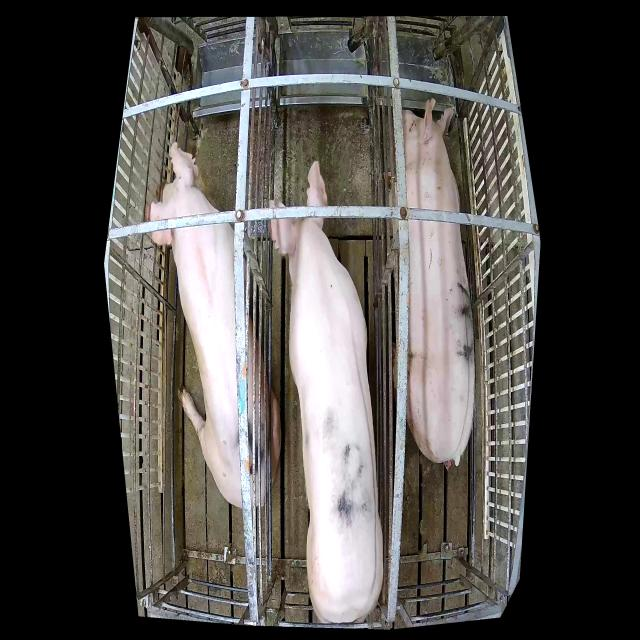pig: (268, 161, 383, 623), (144, 143, 281, 508), (402, 98, 475, 468)
